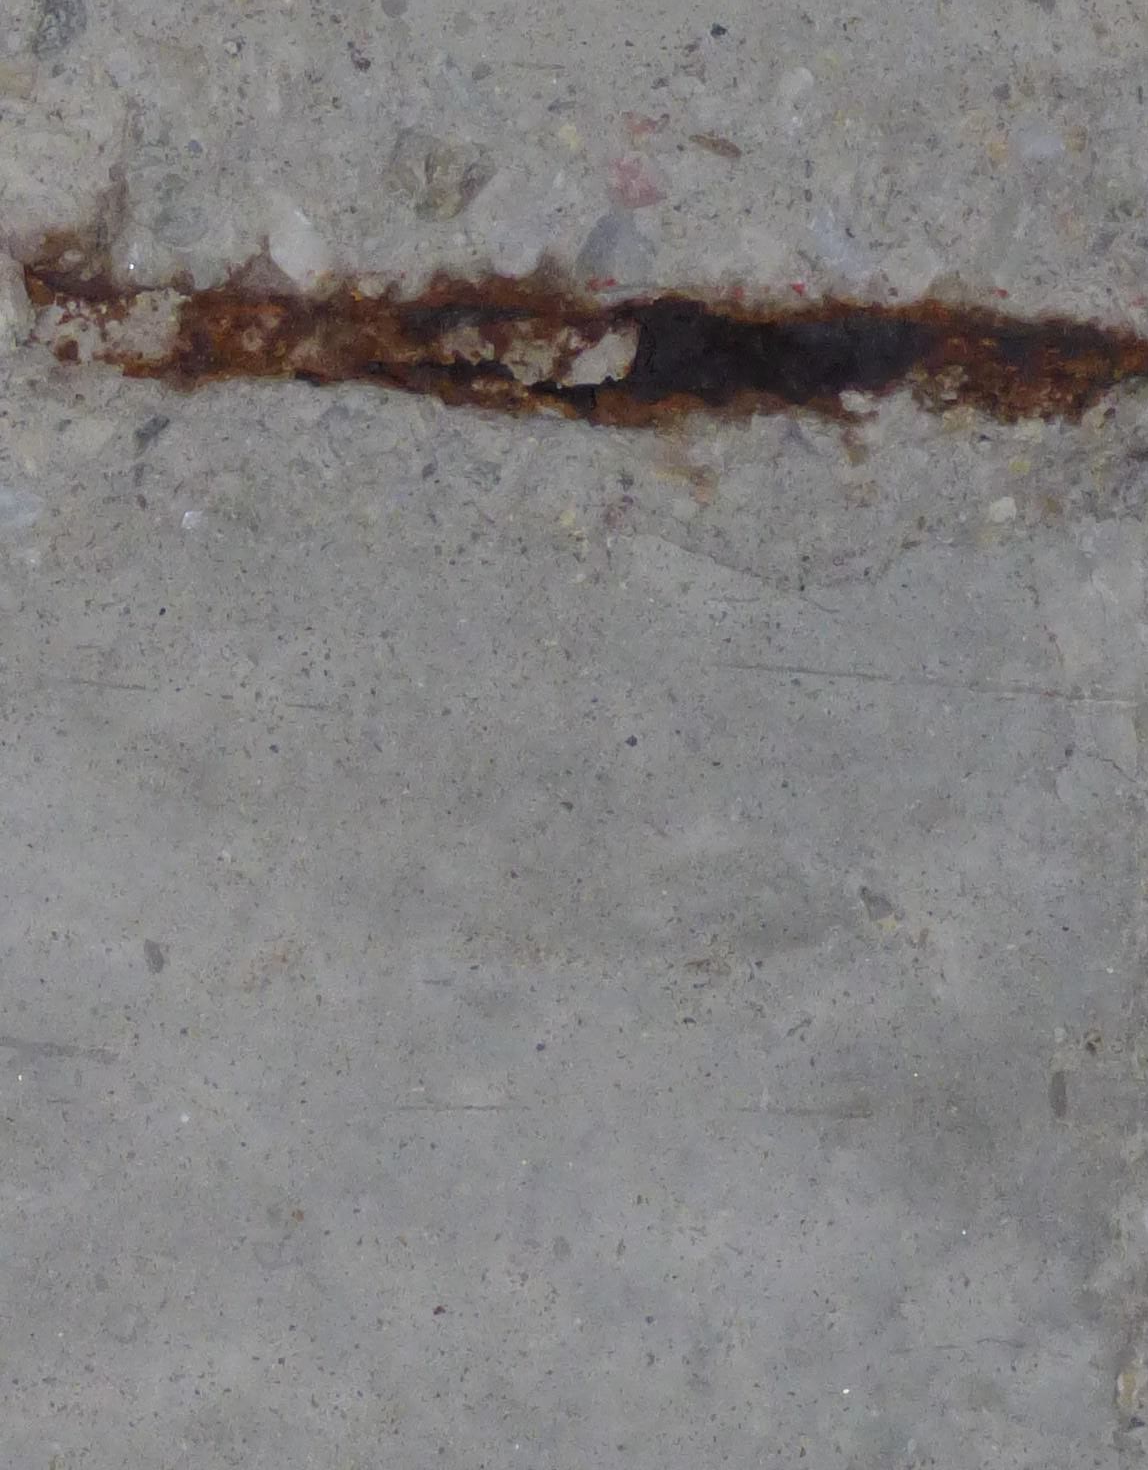Exposed reinforcement: (1, 265, 1148, 427)
